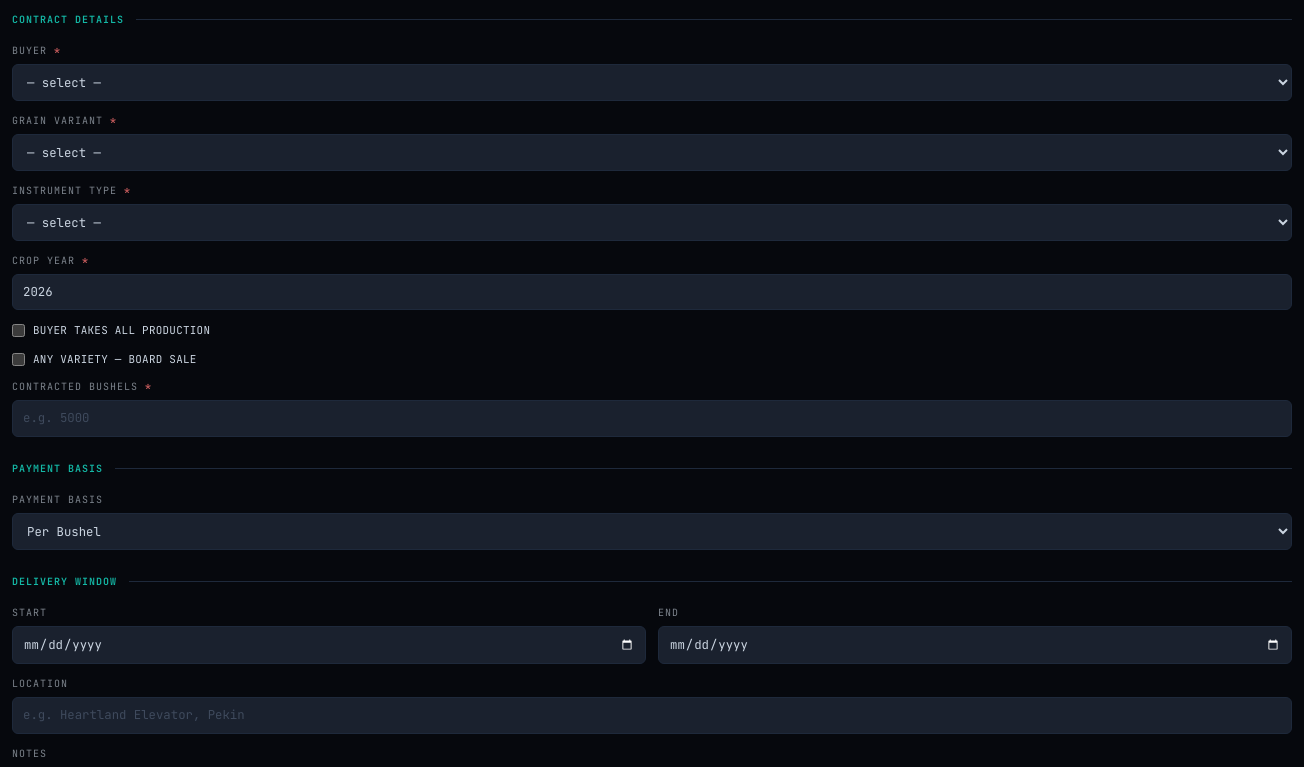
ContractForm › shows basis field when instrument is BASIS_FIXED
Select "Basis Fixed" in the dropdown labelled "Instrument Type *" at (652, 222), box [12,204,1292,241]
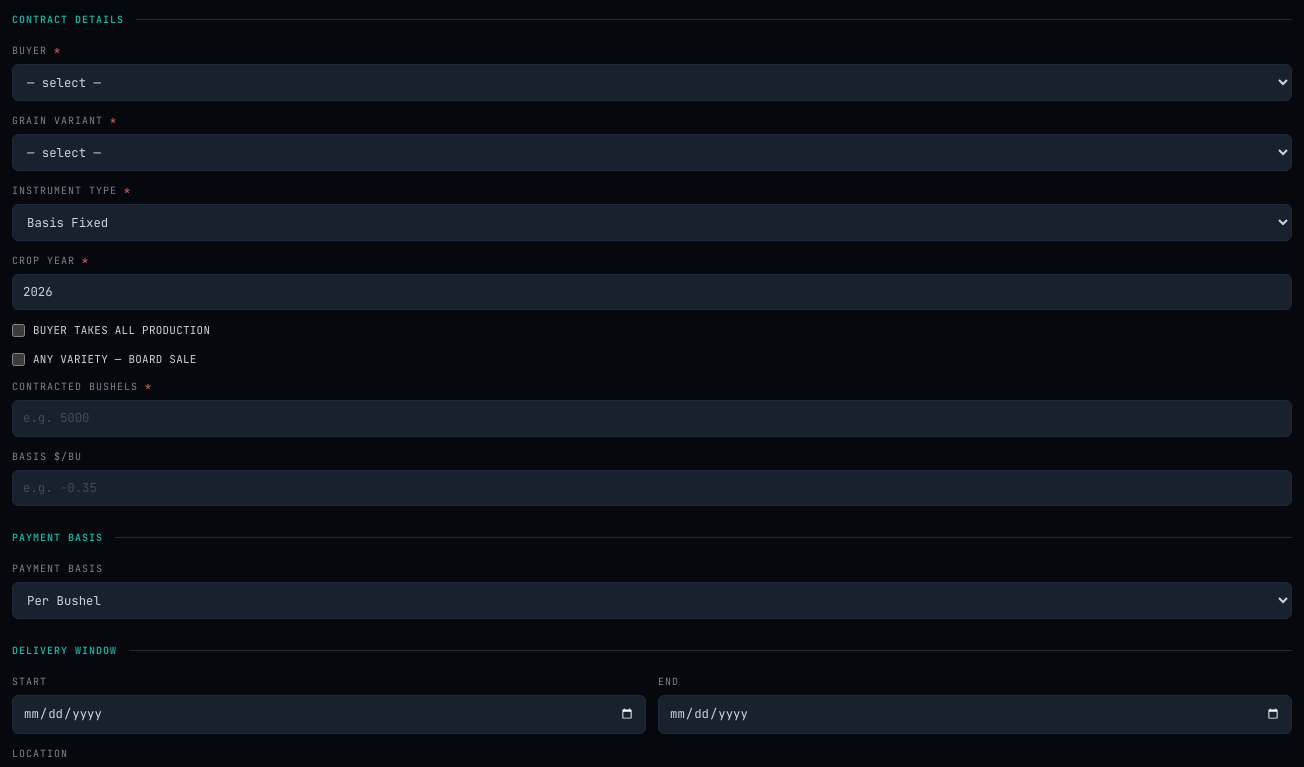
Check: the number field labelled "Basis $/bu" is shown, box [12,470,1292,506]
